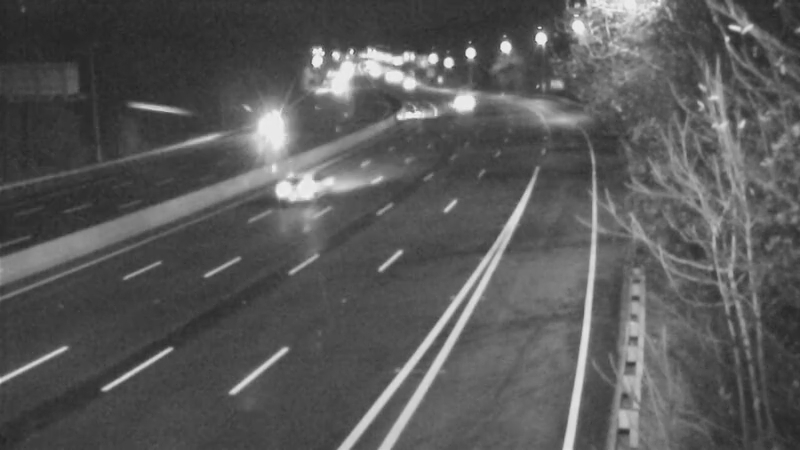vehicle: (259, 143, 339, 223), (438, 74, 488, 124), (387, 85, 437, 135), (242, 103, 292, 153)
